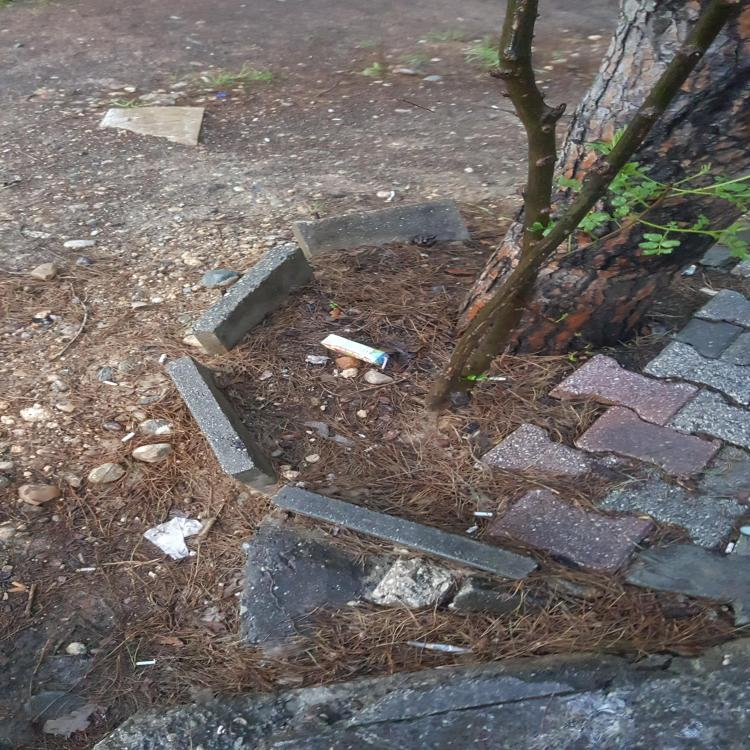Cigarette: (121, 432, 136, 442), (11, 581, 30, 588), (102, 380, 119, 386), (725, 542, 735, 552), (158, 354, 168, 362), (474, 512, 492, 516)
Plastic straw: (381, 357, 388, 369)
Unlabeled litter: (99, 106, 204, 146), (408, 641, 471, 652), (137, 661, 157, 666)
